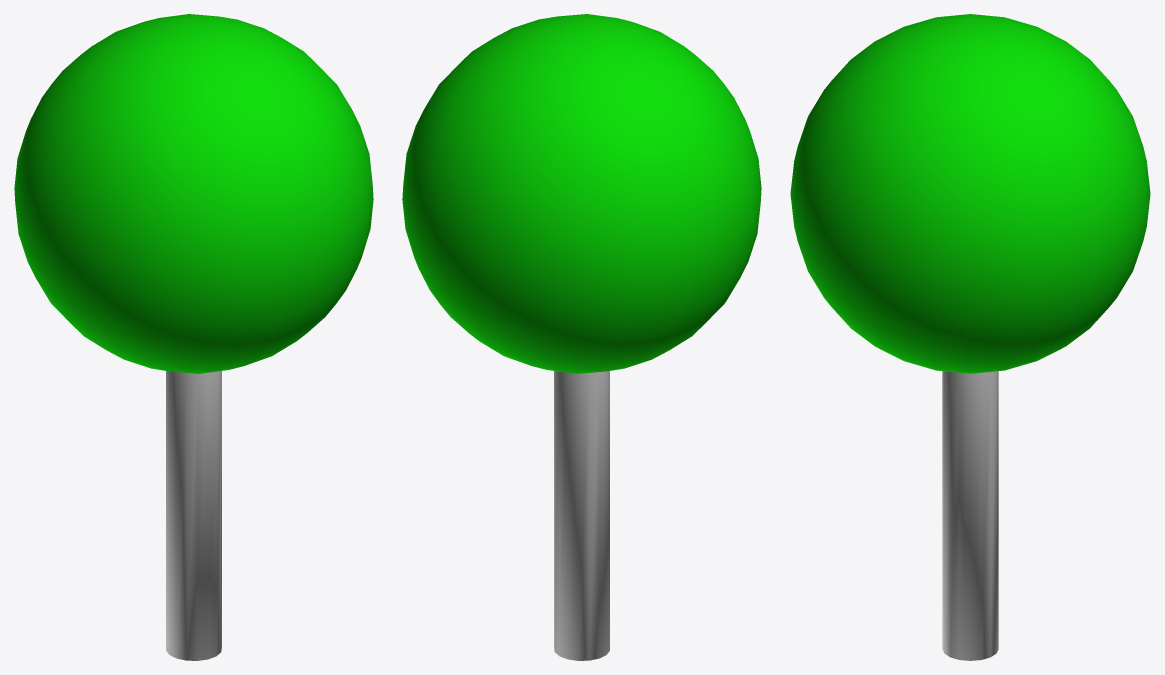
File: green.glb
The picture shows the model from 3 angles, left to right: view 1: azimuth 30°, elevation 25°; view 2: azimuth 150°, elevation 25°; view 3: azimuth 270°, elevation 25°; orthographic projection.
Parts seen in each view (by area): view 1: Green; view 2: Green; view 3: Green.
Boxes of the visible parts, x1=… form: Green: x1=14, y1=14, x2=373, y2=660; Green: x1=402, y1=14, x2=761, y2=660; Green: x1=790, y1=14, x2=1150, y2=660.
Bounding box in the file's own units: 0.3764 × 0.7133 × 0.3764.
